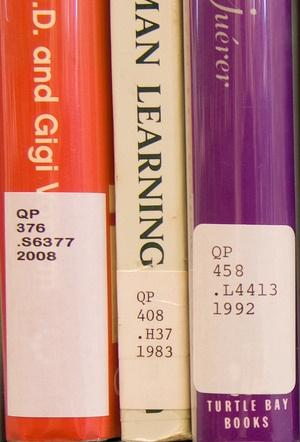call_number: (2, 191, 105, 418), (193, 224, 295, 394), (114, 268, 189, 411)
